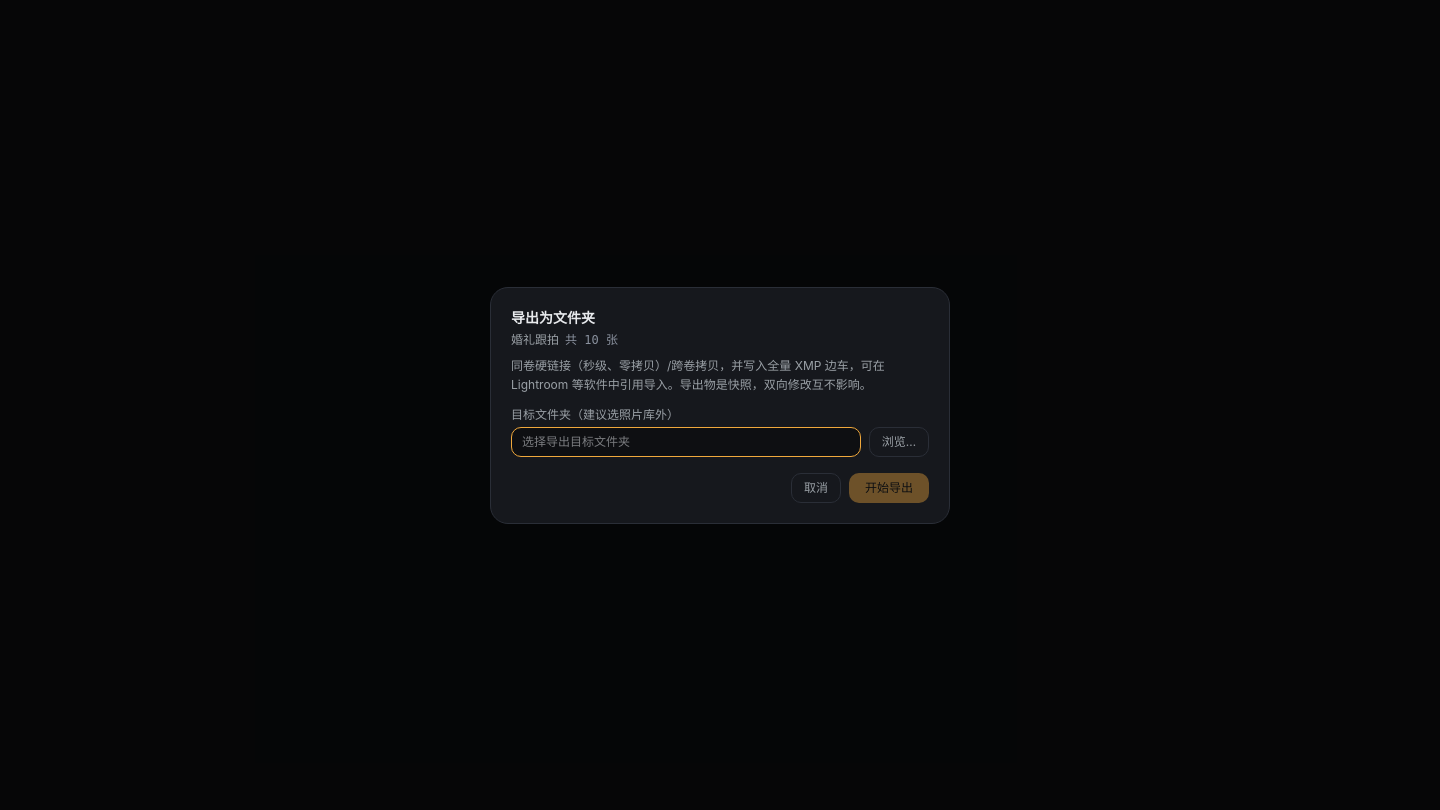
Test: 进度段与总结 › 其他任务的进度/收尾事件不串扰（按 taskId 过滤）
Type "D:\\LR Export" into the field with test id "album-export-dir" at x=686, y=442, box [511,426,861,456]
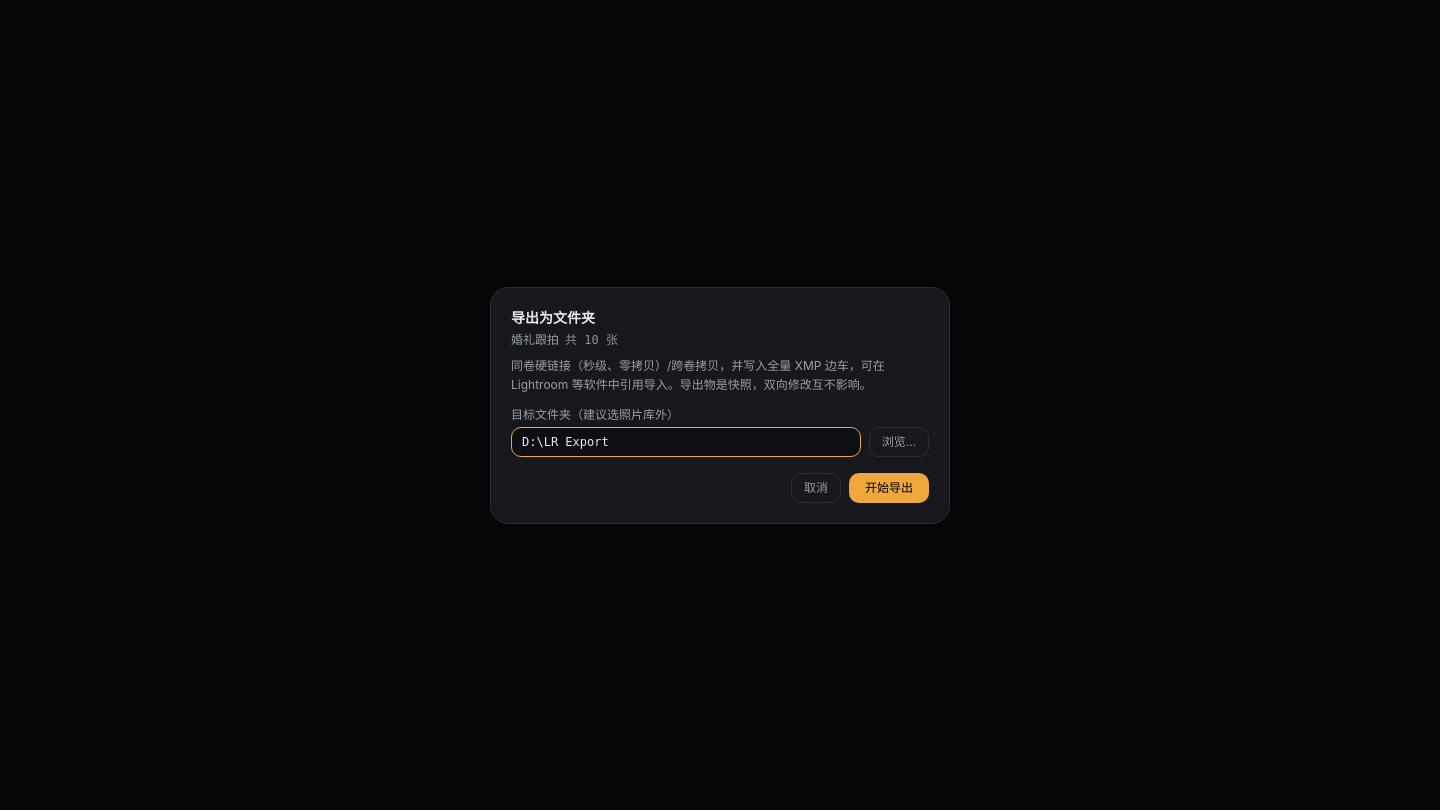
Click the button with test id "album-export-confirm" at x=889, y=488, box [849,472,929,502]
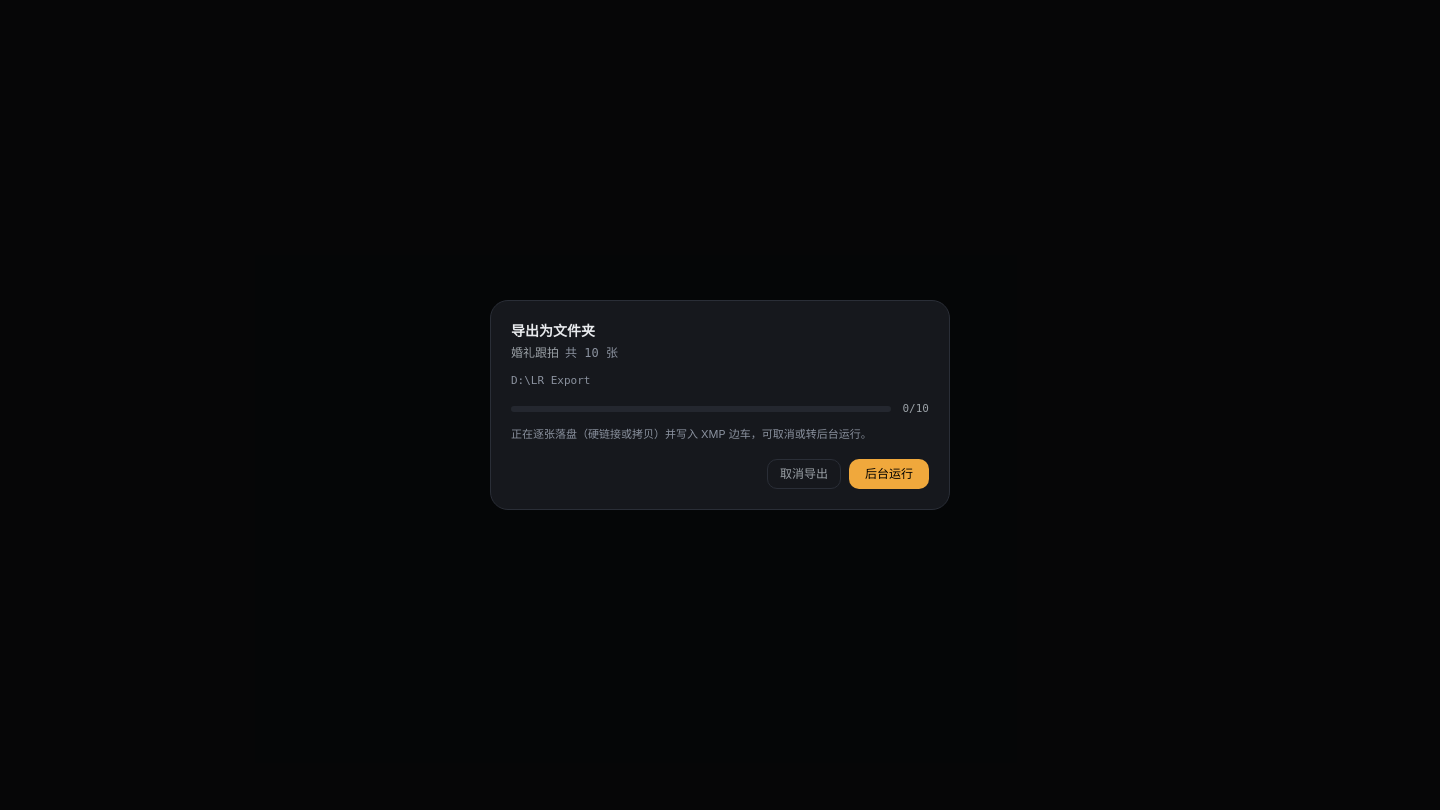
Result: the element with test id "album-export-progress" is shown at [511,401,929,418]
